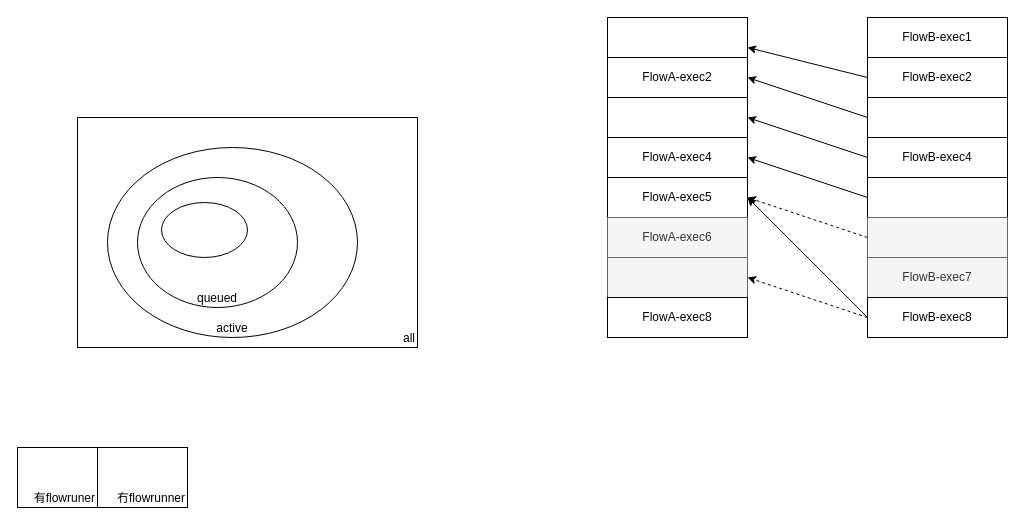
Some shapes in this 1025 by 525 pixel diagram are drawn without their labels. Here are the shapes that lost their labels. From the top down, the centre of each, then its label:
(x=677, y=37): FlowA-exec1
(x=677, y=117): FlowA-exec3
(x=937, y=117): FlowB-exec3
(x=937, y=197): FlowB-exec5
(x=204, y=230): running
(x=937, y=237): FlowB-exec6
(x=677, y=277): FlowA-exec7
